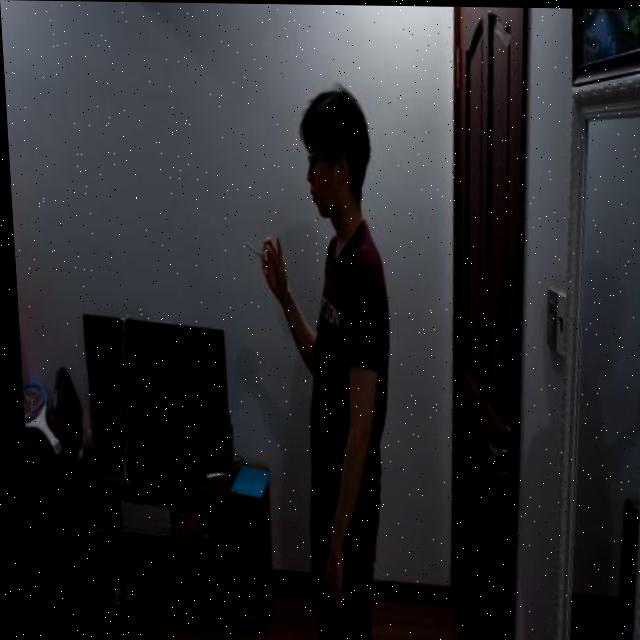cigarette: (242, 242, 259, 258)
